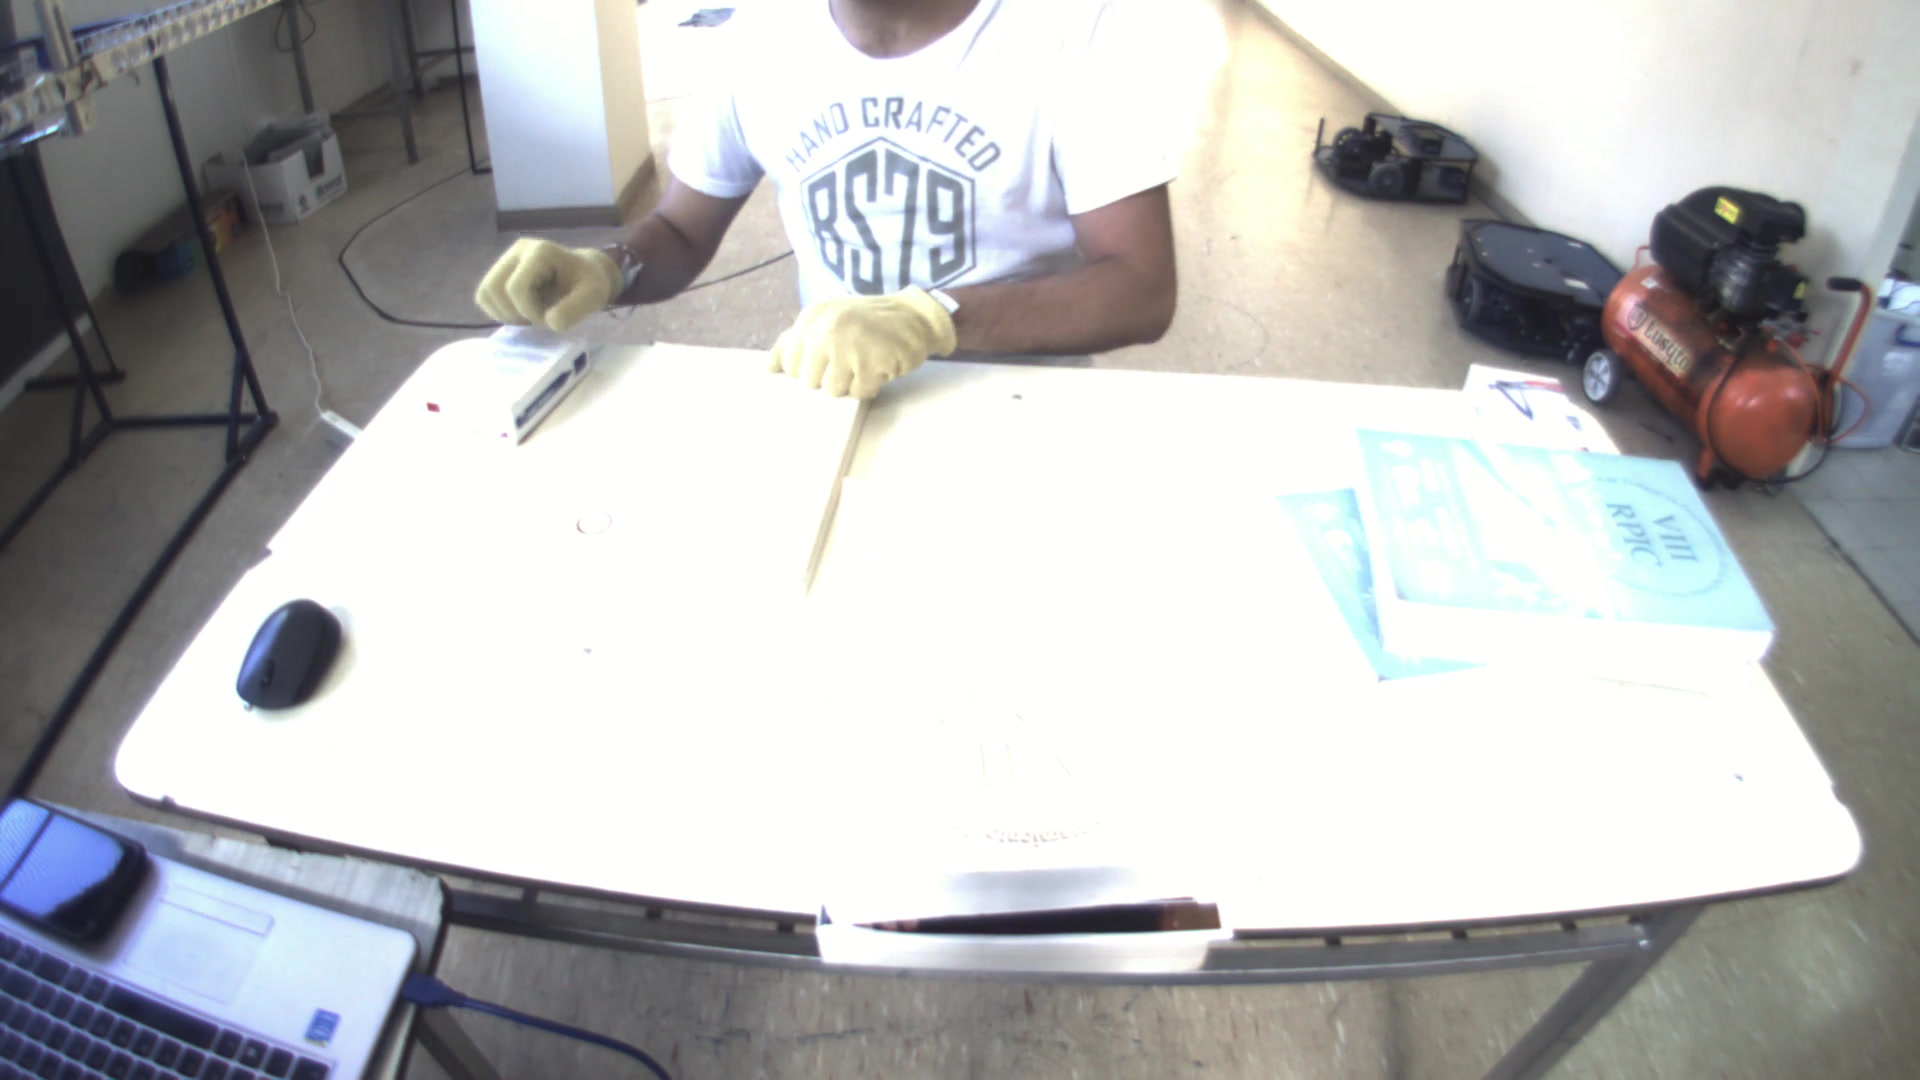hand: (758, 268, 968, 394), (455, 222, 630, 332)
